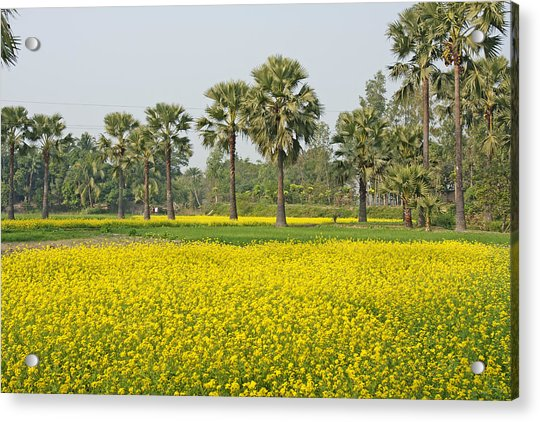mustard: (8, 260, 510, 397)
